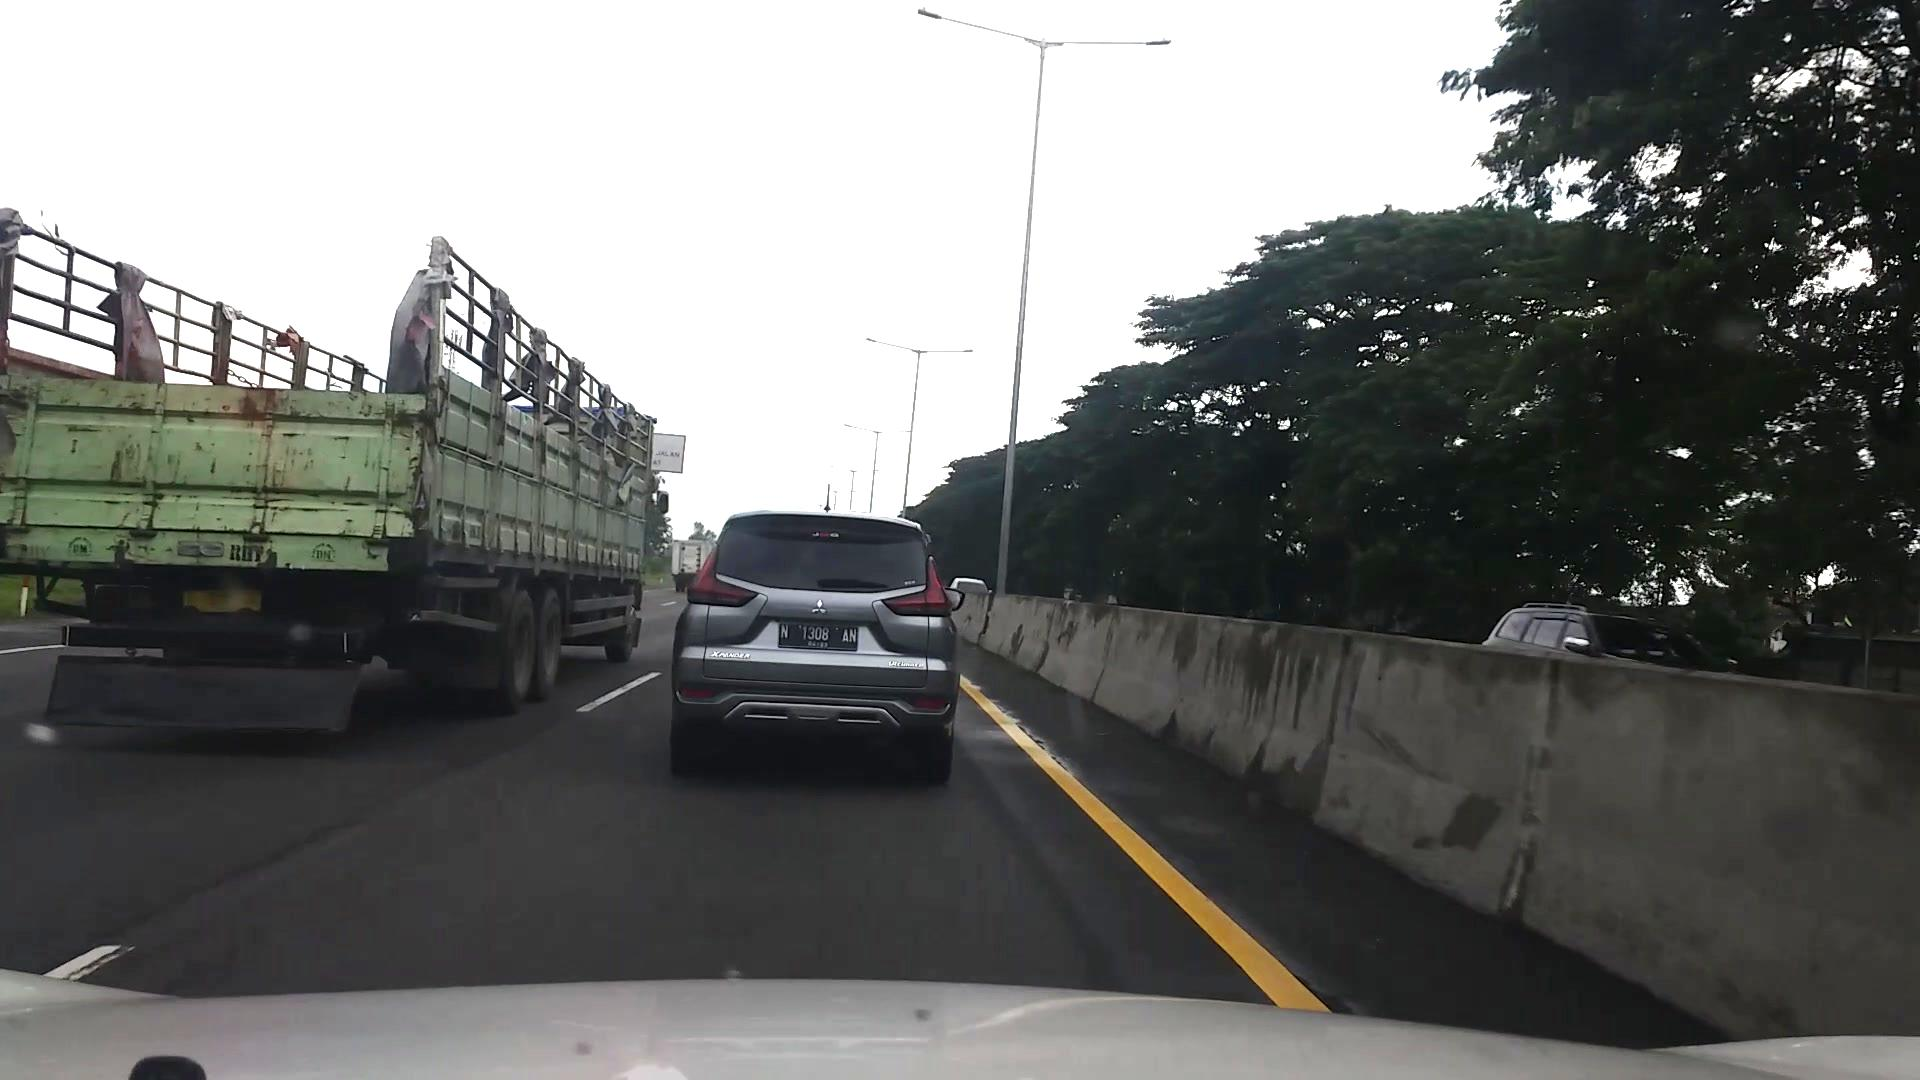plate_positive: (779, 622, 858, 650)
